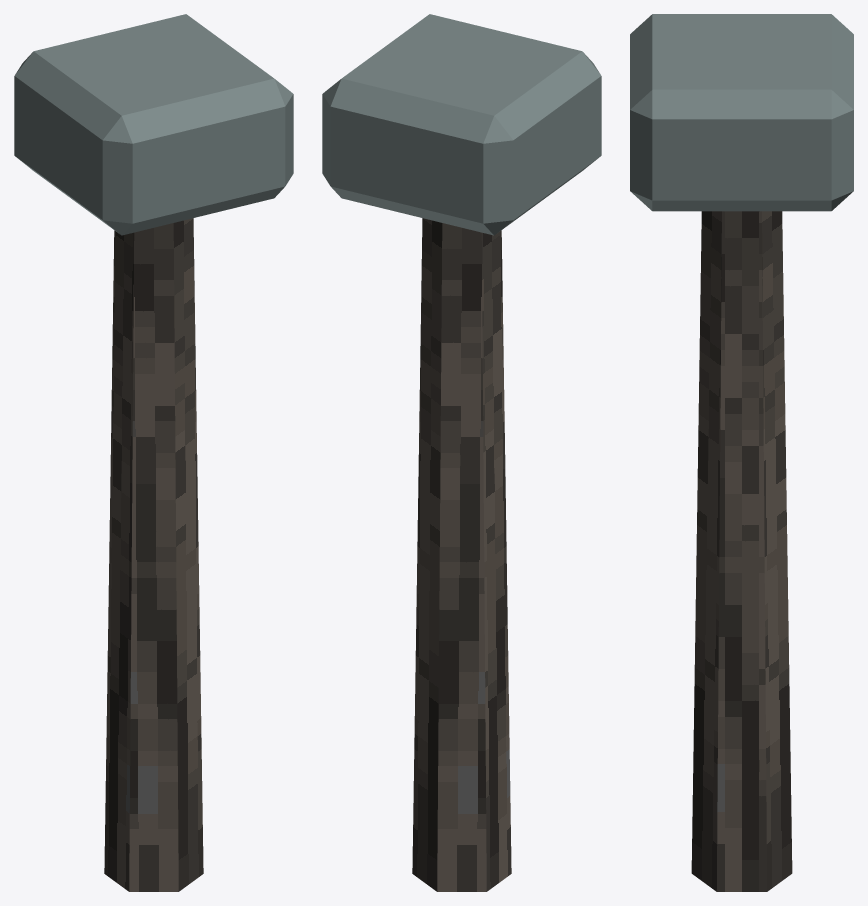
Rendered from enfeite_tocha.glb.
3 renders of one model, left to right at view 1: azimuth 30°, elevation 25°; view 2: azimuth 150°, elevation 25°; view 3: azimuth 270°, elevation 25°, orthographic.
Visible parts, largest first — view 1: neve_enfeite_tocha; view 2: neve_enfeite_tocha; view 3: neve_enfeite_tocha.
Part boxes in pixels (x1,y1,x2,y2): neve_enfeite_tocha: [14, 14, 293, 891]; neve_enfeite_tocha: [322, 14, 601, 891]; neve_enfeite_tocha: [630, 14, 853, 891].
Size of the model in its own units: 0.2 by 0.81 by 0.2.
2 materials, 1 textured.
